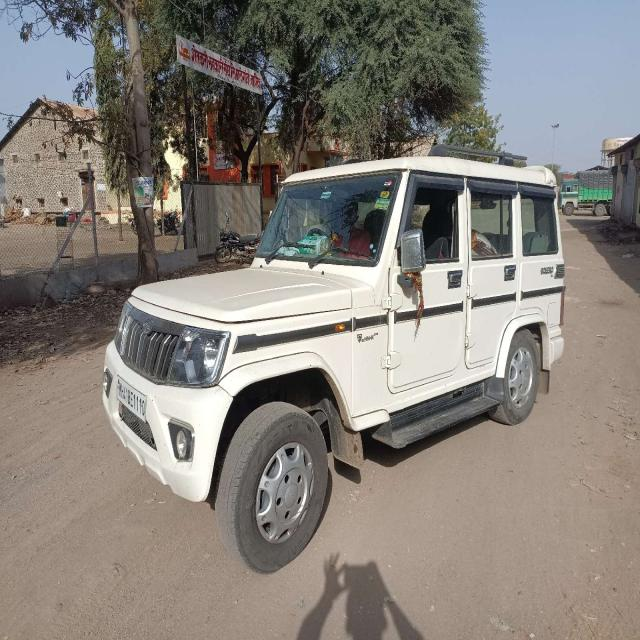light_vehicle: (101, 166, 564, 472)
